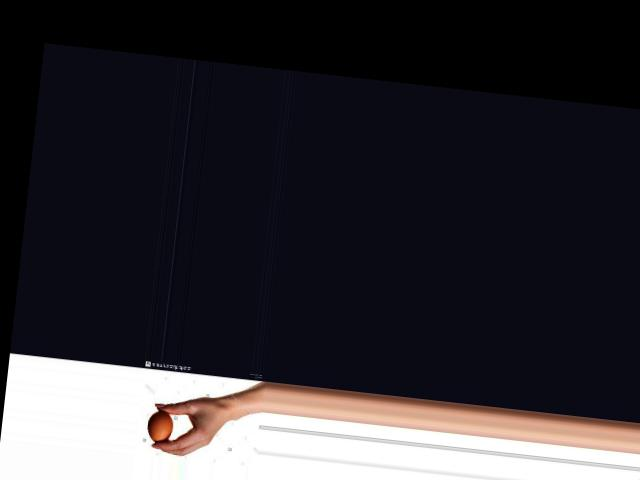egg: (146, 409, 175, 443)
